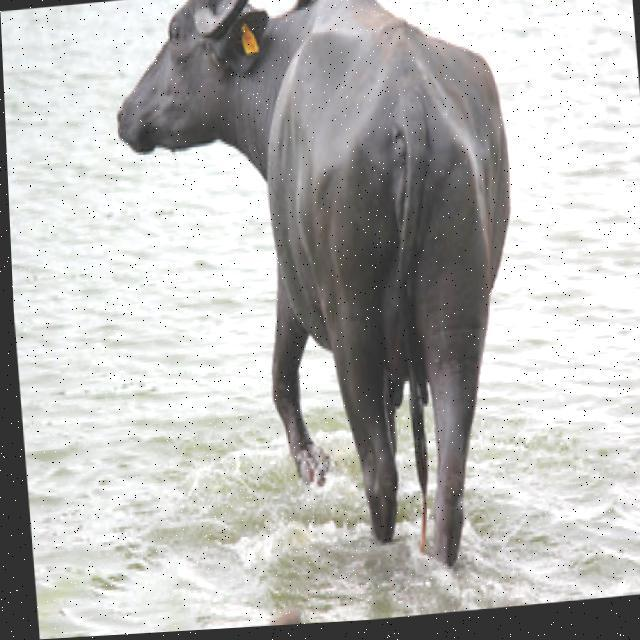Buffalo: (103, 0, 541, 595)
